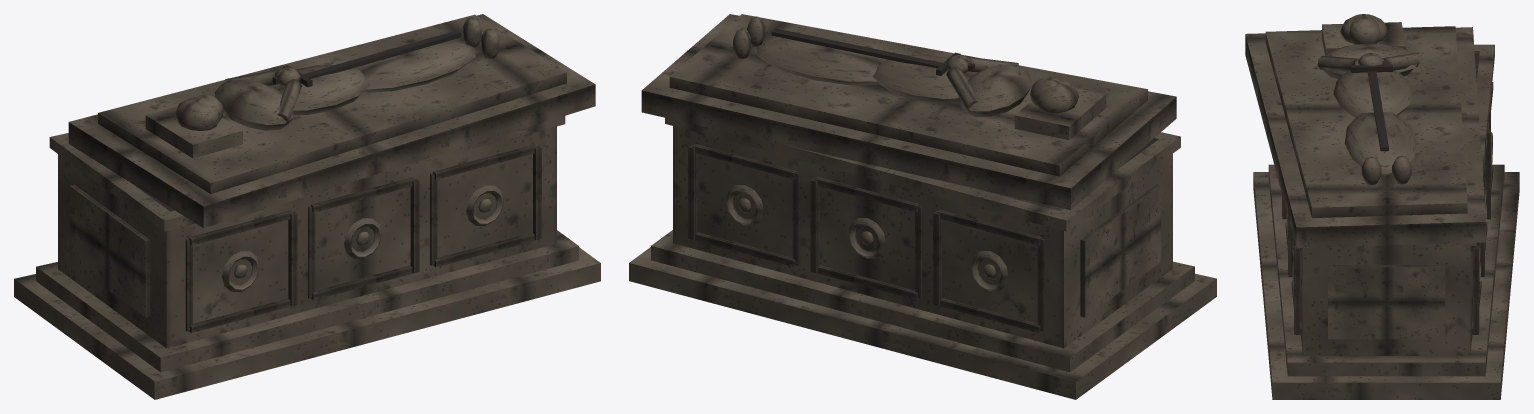
Rendered from sarcophagus.glb.
The picture shows the model from 3 angles, left to right: view 1: azimuth 30°, elevation 25°; view 2: azimuth 150°, elevation 25°; view 3: azimuth 270°, elevation 25°; orthographic projection. The views are drawn at different scales.
Parts seen in each view (by area): view 1: sarcophagus; view 2: sarcophagus; view 3: sarcophagus.
Part boxes in pixels (left/top/right/bottom): sarcophagus: left=14, top=14, right=600, bottom=399; sarcophagus: left=629, top=14, right=1216, bottom=399; sarcophagus: left=1245, top=14, right=1519, bottom=399.
Size of the model in its own units: 2.66 by 1.3 by 1.44.
3 materials, 2 textured.
